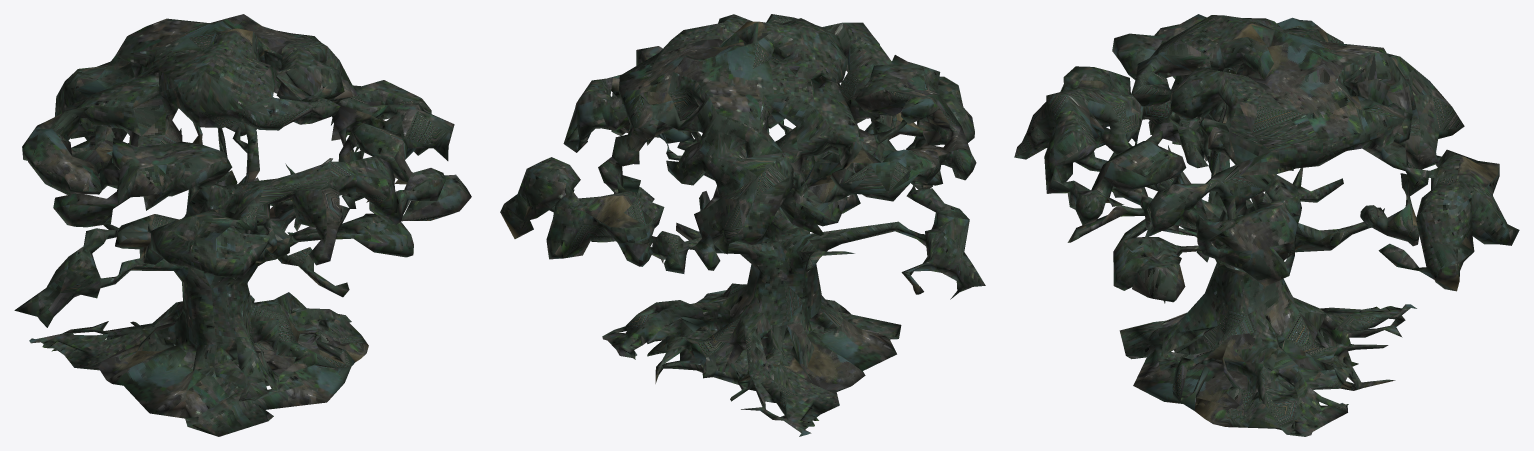
The model's file is pohon_beringin.glb.
3 views of the same model, side by side, from view 1: azimuth 30°, elevation 25°; view 2: azimuth 150°, elevation 25°; view 3: azimuth 270°, elevation 25° (orthographic). The views are drawn at different scales.
Parts seen in each view (by area): view 1: pohon beringin; view 2: pohon beringin; view 3: pohon beringin.
Part boxes in pixels (bbox=[...]): pohon beringin: bbox=[14, 14, 471, 436]; pohon beringin: bbox=[500, 14, 985, 436]; pohon beringin: bbox=[1014, 14, 1519, 436].
Size of the model in its own units: 44.94 by 34.86 by 46.05.
Materials: 1 (1 with a texture image).
